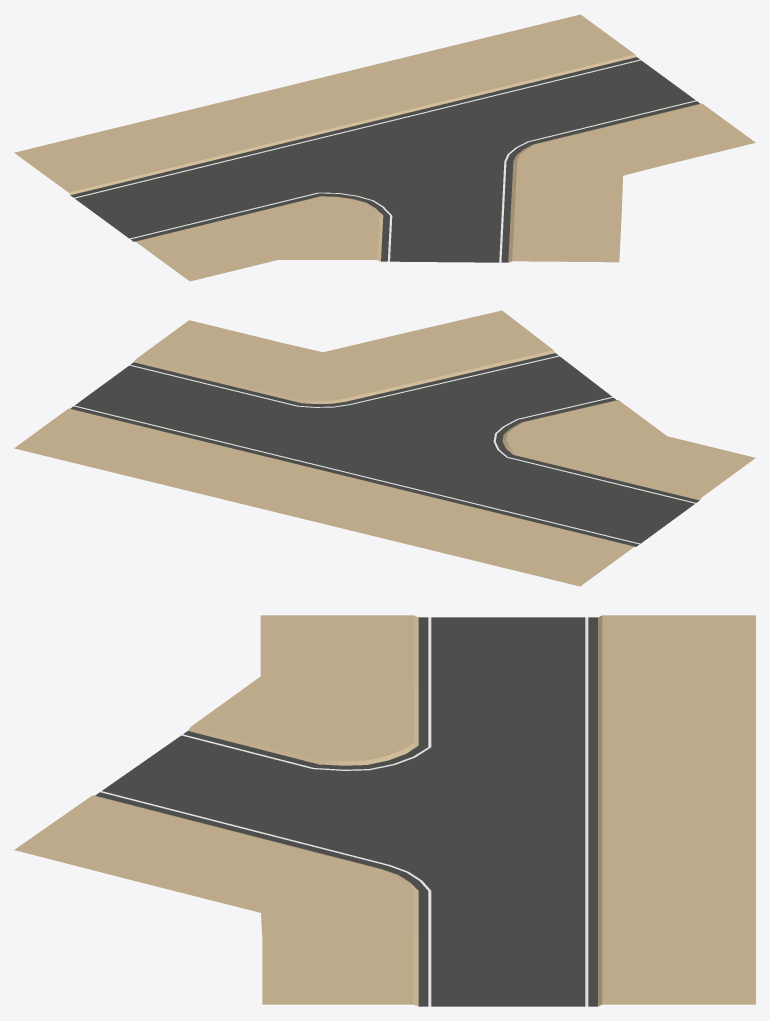
File: street_1.fbx
3 renders of one model, top to bottom at view 1: azimuth 30°, elevation 25°; view 2: azimuth 150°, elevation 25°; view 3: azimuth 270°, elevation 25°, orthographic. The views are drawn at different scales.
Parts seen in each view (by area): view 1: street_5; view 2: street_5; view 3: street_5.
Part boxes in pixels (x1,y1,x2,y2): street_5: [14, 14, 755, 281]; street_5: [14, 310, 755, 586]; street_5: [14, 615, 755, 1006].
Bounding box in the file's own units: 3117 × 7.88 × 2511.
